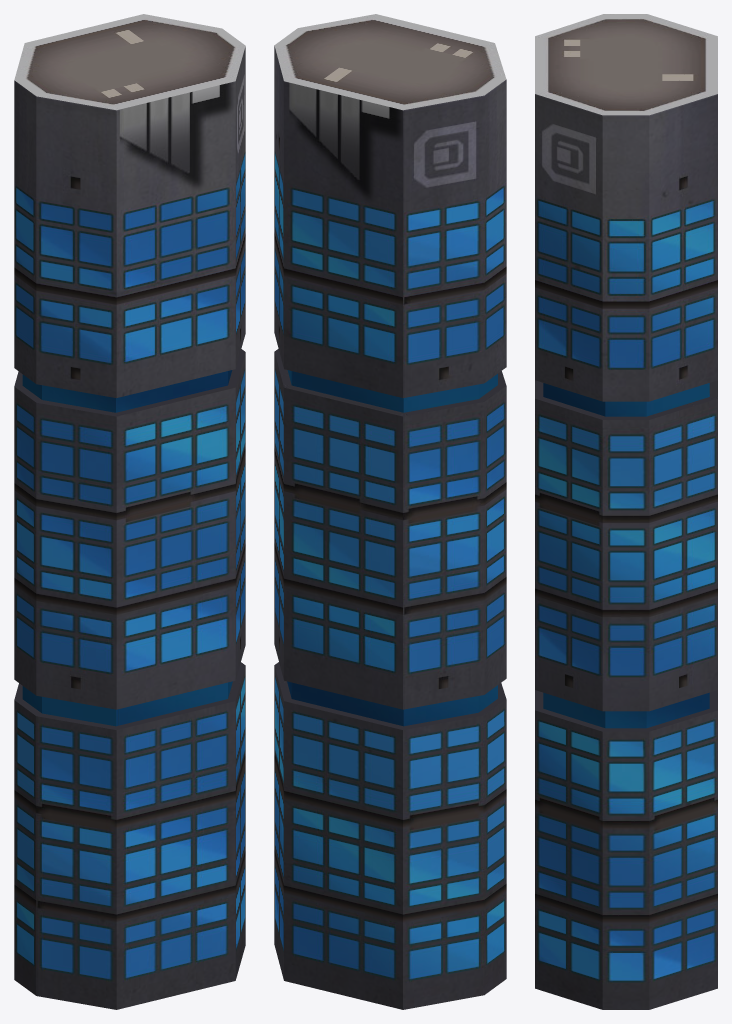
The model's file is House_10(2).FBX.
3 renders of one model, left to right at view 1: azimuth 30°, elevation 25°; view 2: azimuth 150°, elevation 25°; view 3: azimuth 270°, elevation 25°, orthographic.
Parts seen in each view (by area): view 1: House_10; view 2: House_10; view 3: House_10.
Part boxes in pixels (x1,y1,x2,y2): House_10: [14, 14, 245, 1009]; House_10: [274, 14, 506, 1009]; House_10: [535, 14, 717, 1009].
Size of the model in its own units: 24.35 by 100 by 18.54.
Materials: 1 (1 with a texture image).
